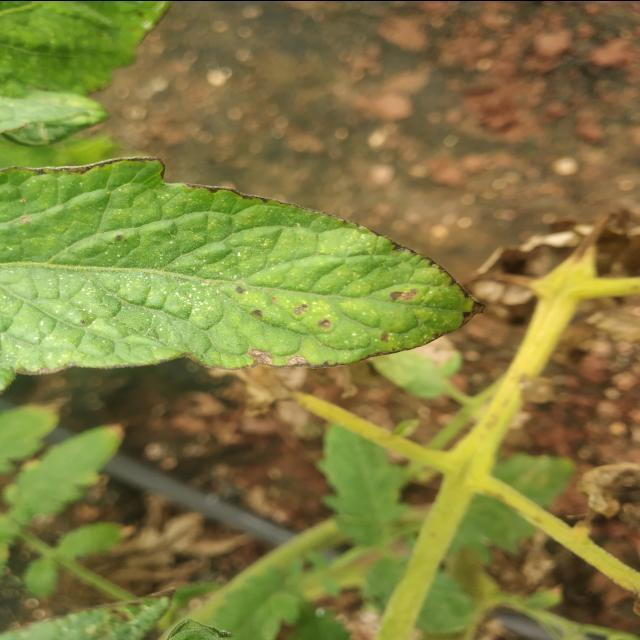Tomato mosaic virus leaf: (0, 152, 496, 378)
